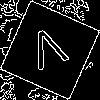V: (25, 25, 73, 80)
